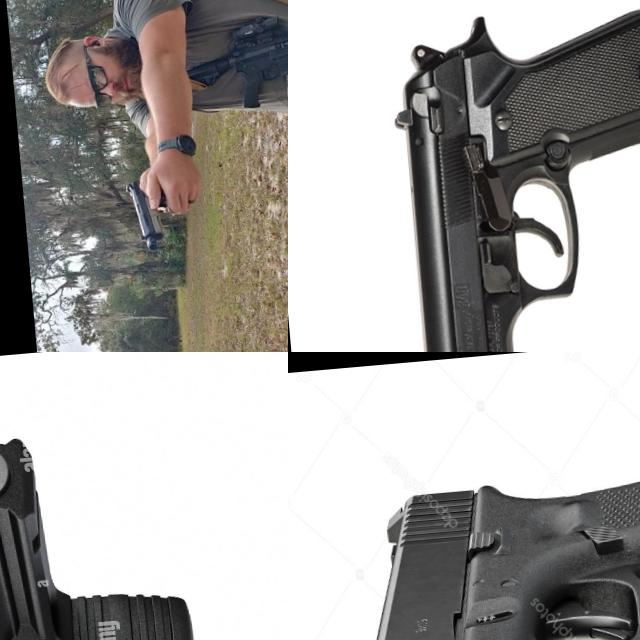handgun: (381, 0, 640, 352), (288, 426, 640, 640), (0, 380, 288, 640), (124, 173, 174, 252)
